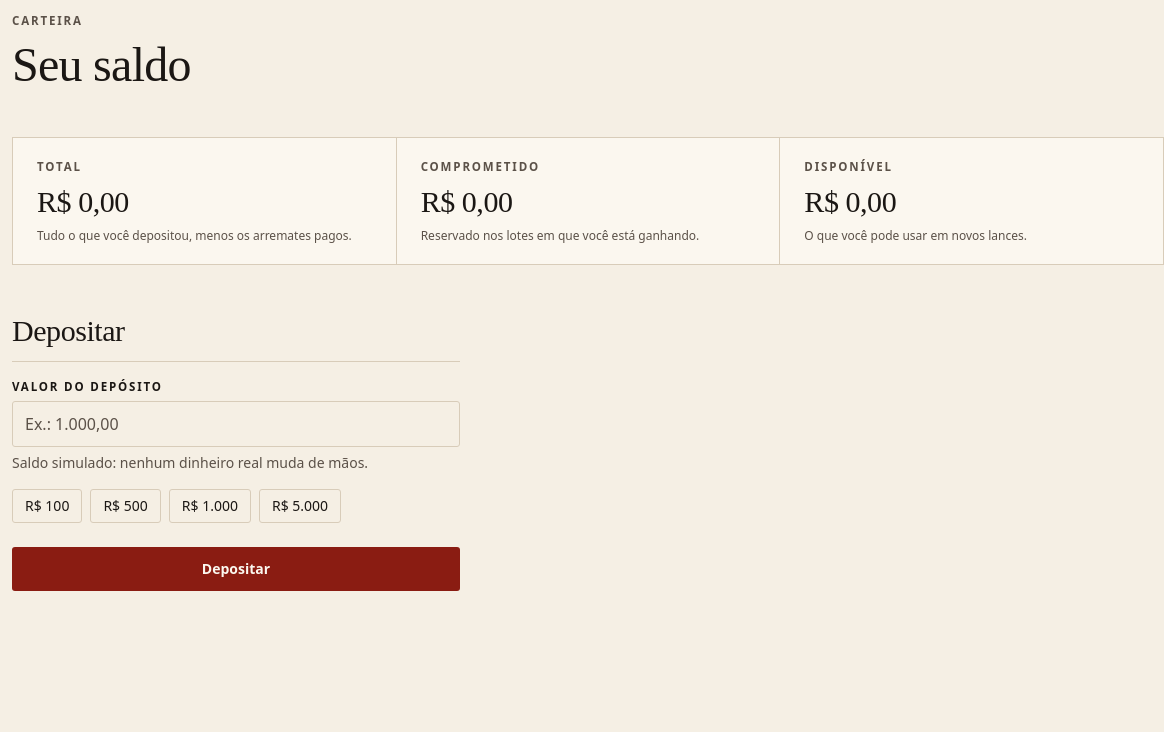
it: WalletPanel › atalho preenche o valor; valor inválido não é enviado
Click the button "R$ 500". click: coordinates (126, 506)
box: [90,489,161,523]
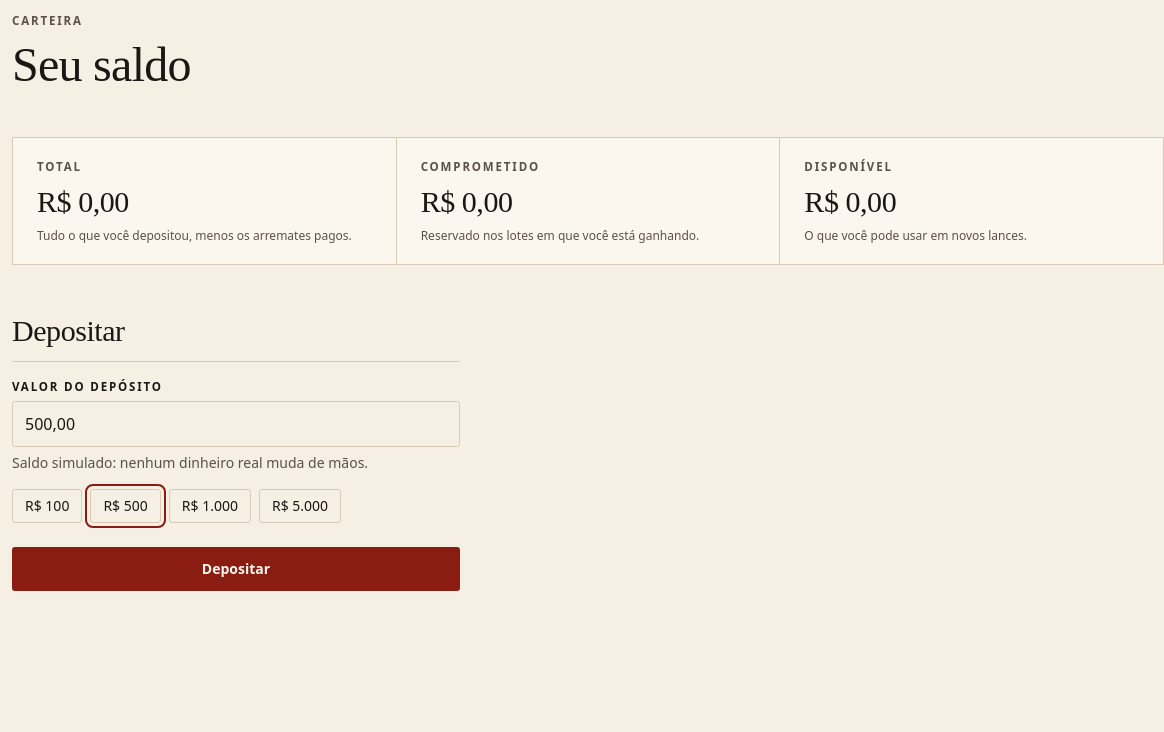
Result: the field labelled "Valor do depósito" holds "500,00"
Replace the text in the field labelled "Valor do depósito" with "0". click: coordinates (236, 424)
box: [12,401,460,447]
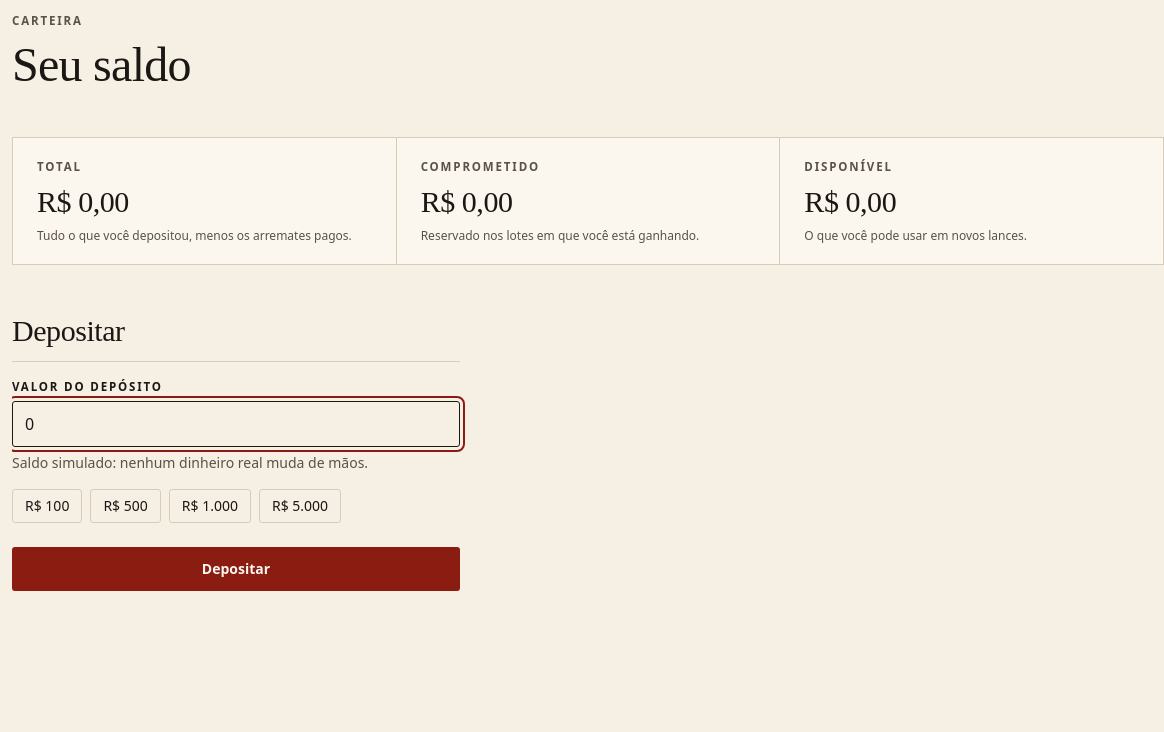
Click the button "Depositar". click: coordinates (236, 569)
box: [12,547,460,591]
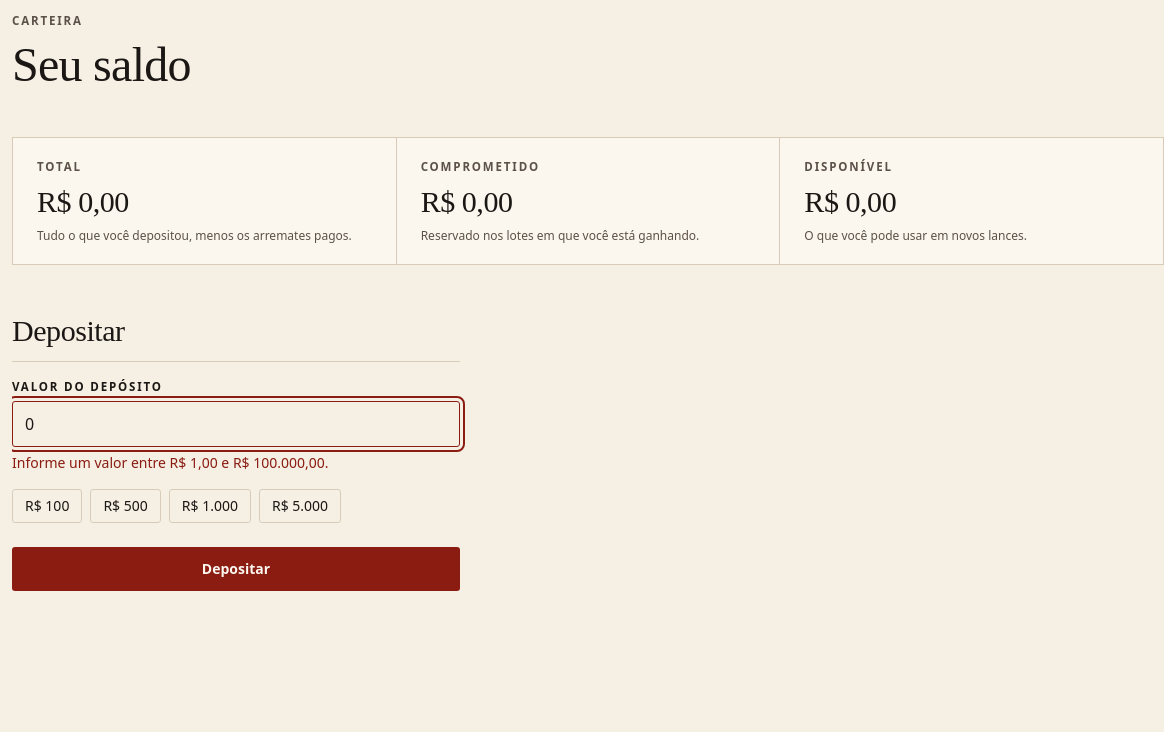
Result: the text "Informe um valor entre R$ 1,00 e R$ 100.000,00." is shown at [12,453,329,472]
